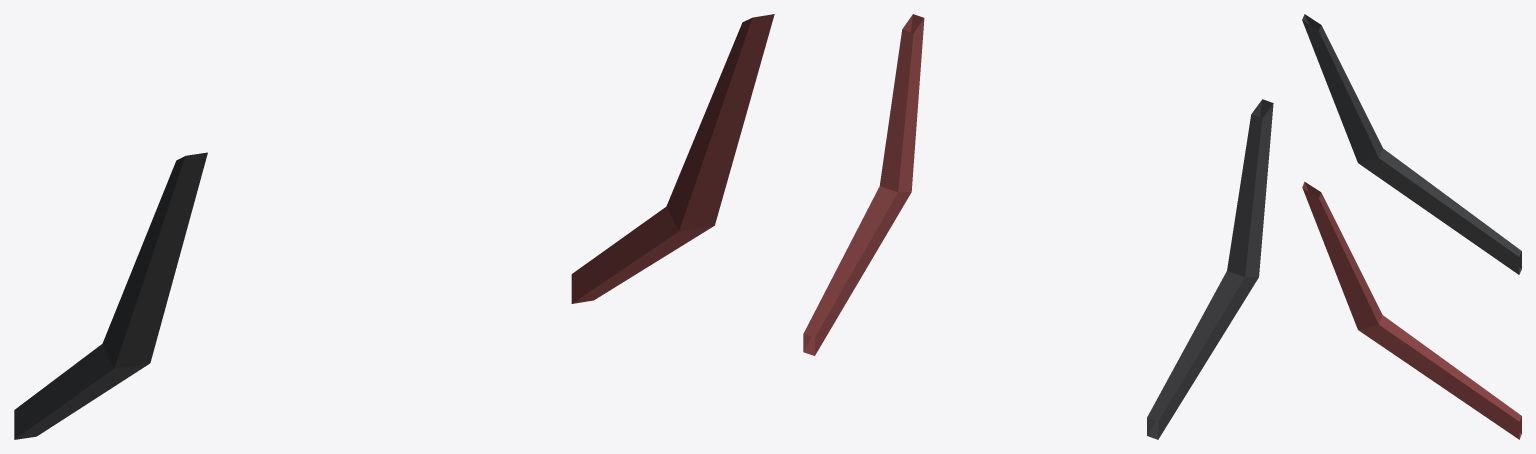
File: Spaceship_hood_support.fbx
The picture shows the model from 3 angles, left to right: view 1: azimuth 30°, elevation 25°; view 2: azimuth 150°, elevation 25°; view 3: azimuth 270°, elevation 25°; orthographic projection. The views are drawn at different scales.
Visible parts, largest first — view 1: Spaceship_hood_support; view 2: Spaceship_hood_support; view 3: Spaceship_hood_support.
Boxes of the visible parts, x1,y1,x2,y2 form: Spaceship_hood_support: (14,14,774,439); Spaceship_hood_support: (803,14,1273,439); Spaceship_hood_support: (1302,14,1521,439).
Size of the model in its own units: 265 by 172 by 136.
